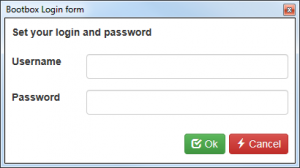input: (78, 87, 292, 120), (78, 49, 291, 82)
text: (8, 24, 157, 40), (9, 53, 72, 74), (8, 86, 67, 108)
